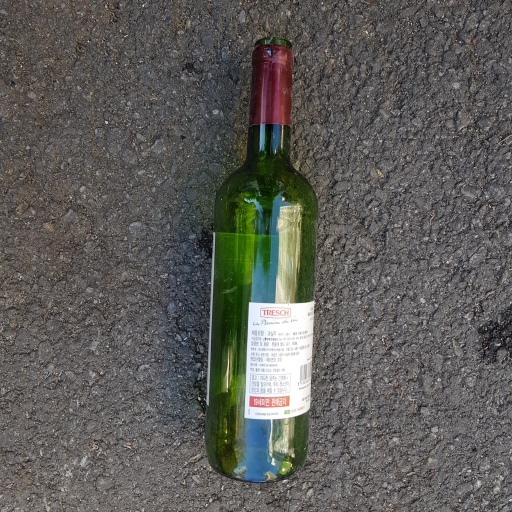Glass_2: (203, 34, 323, 480)
